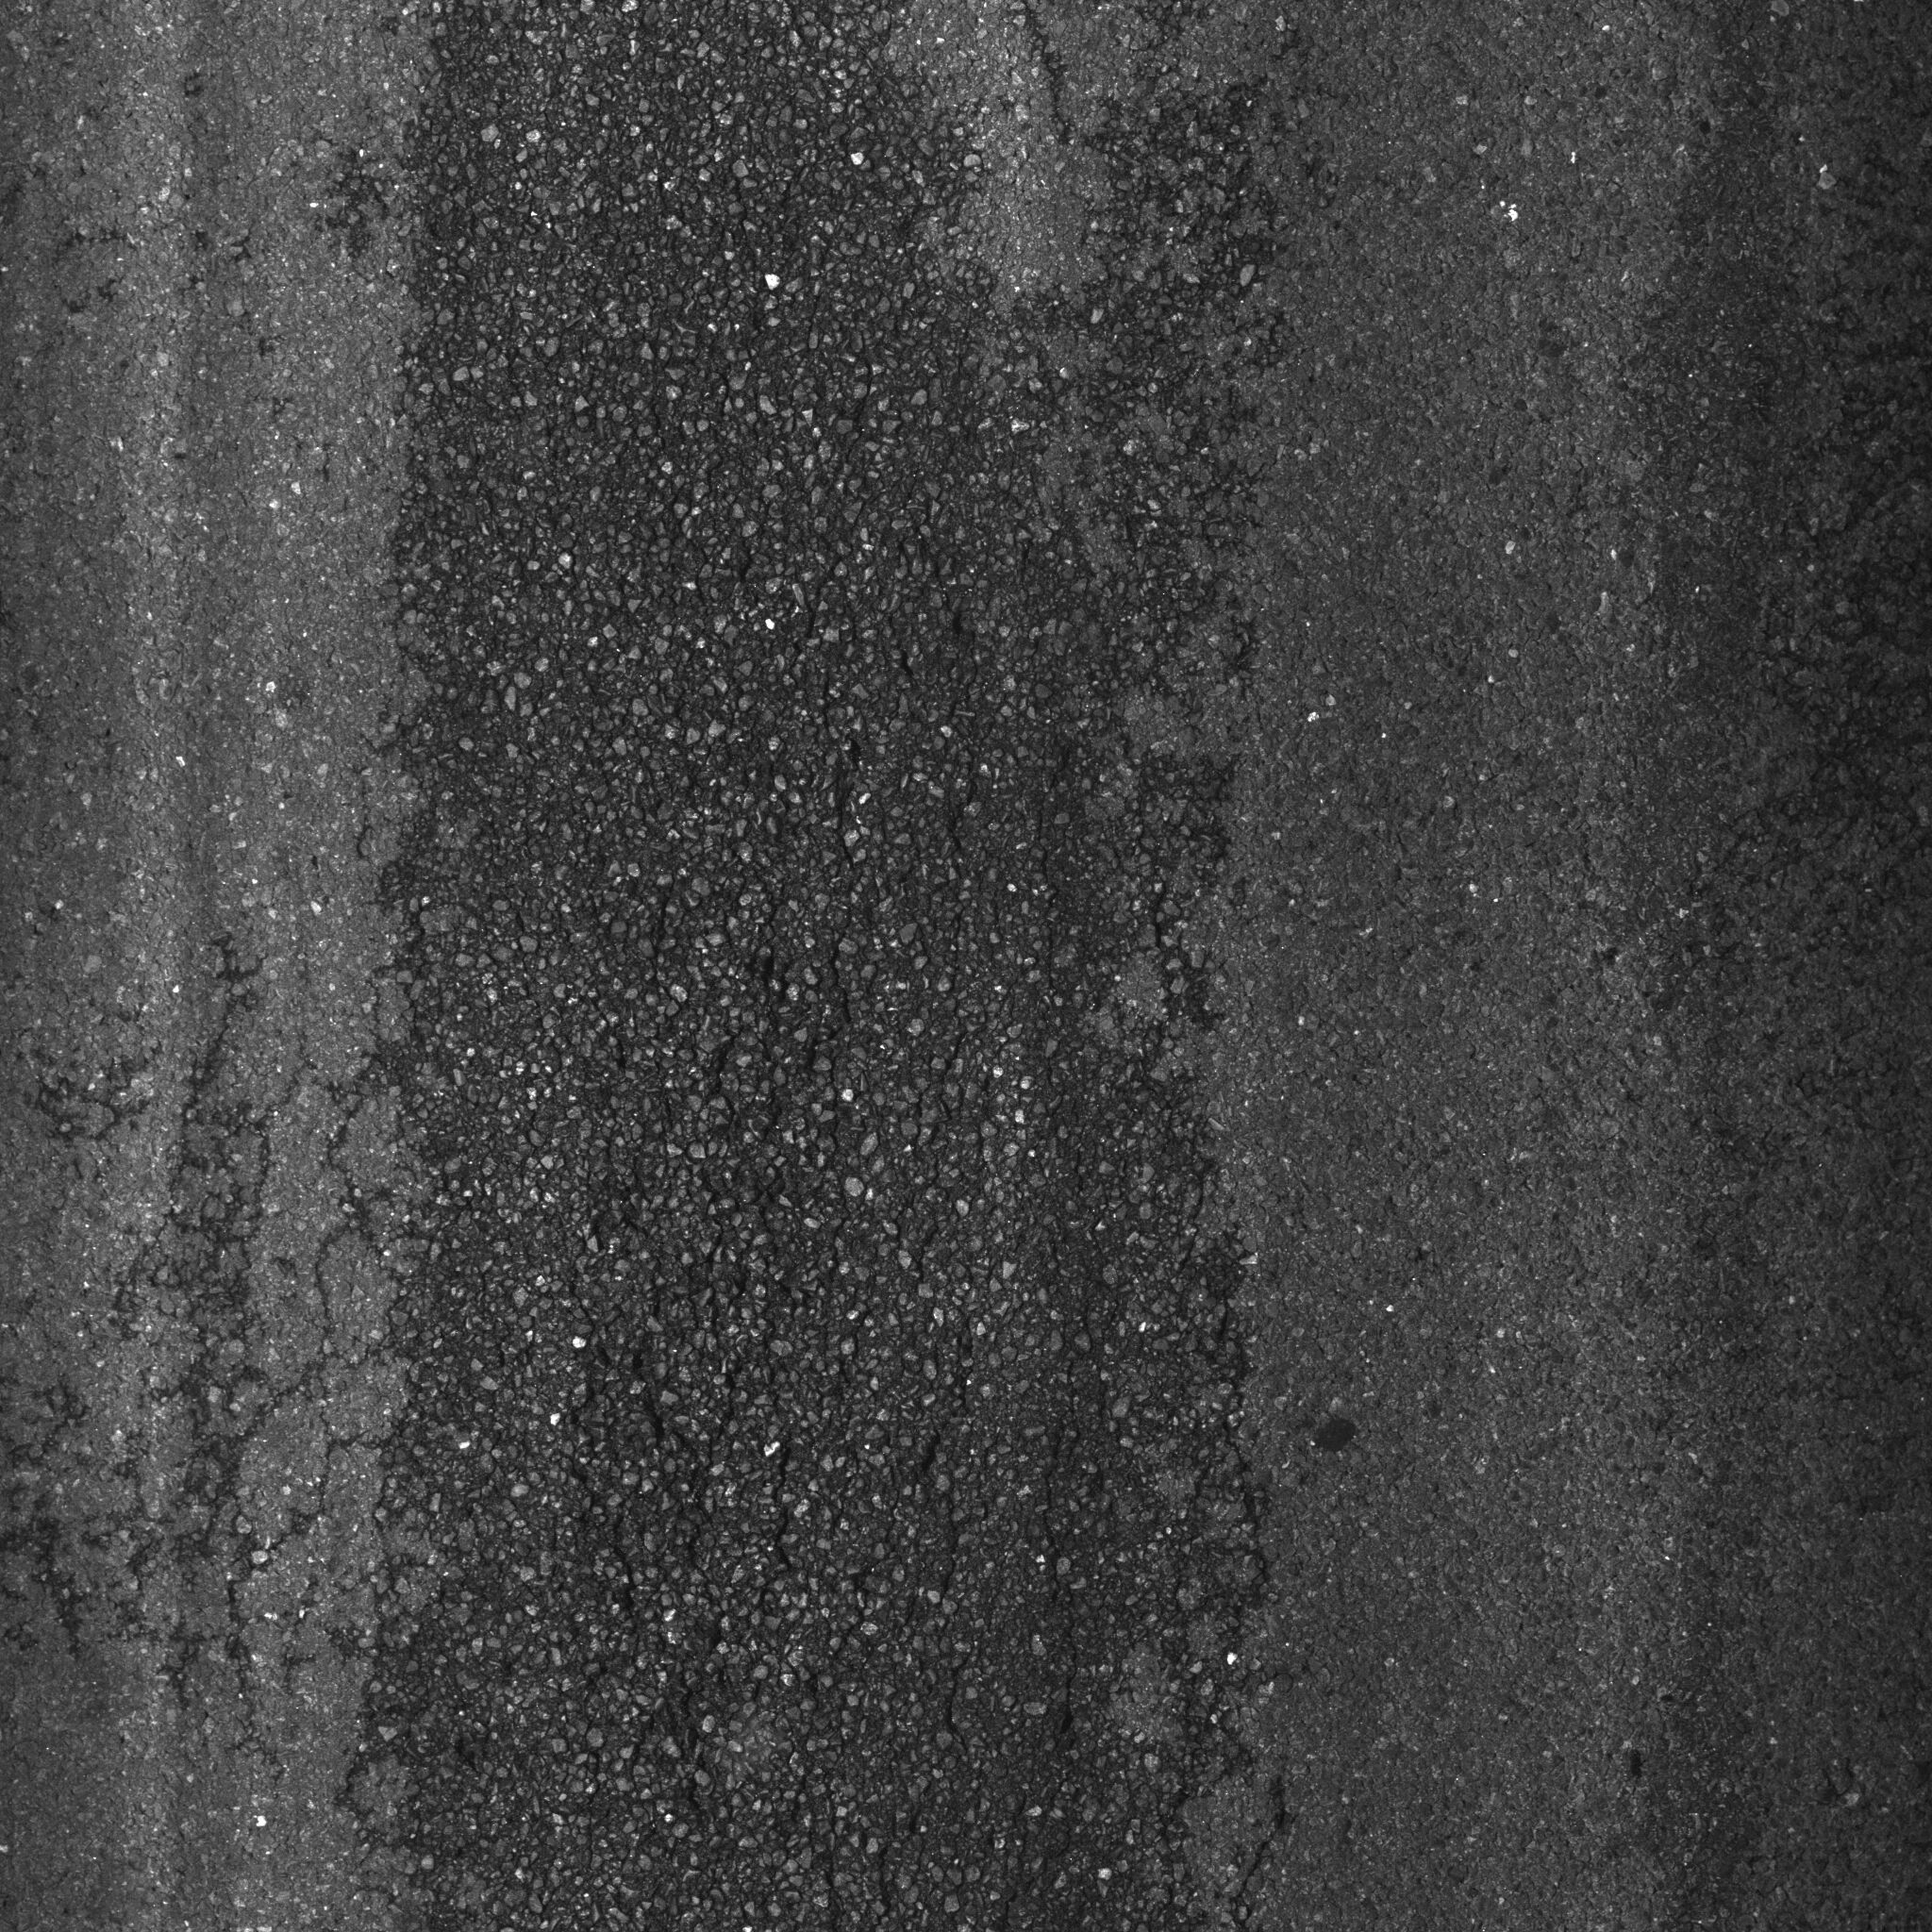alligator: (50, 285, 1297, 1932)
